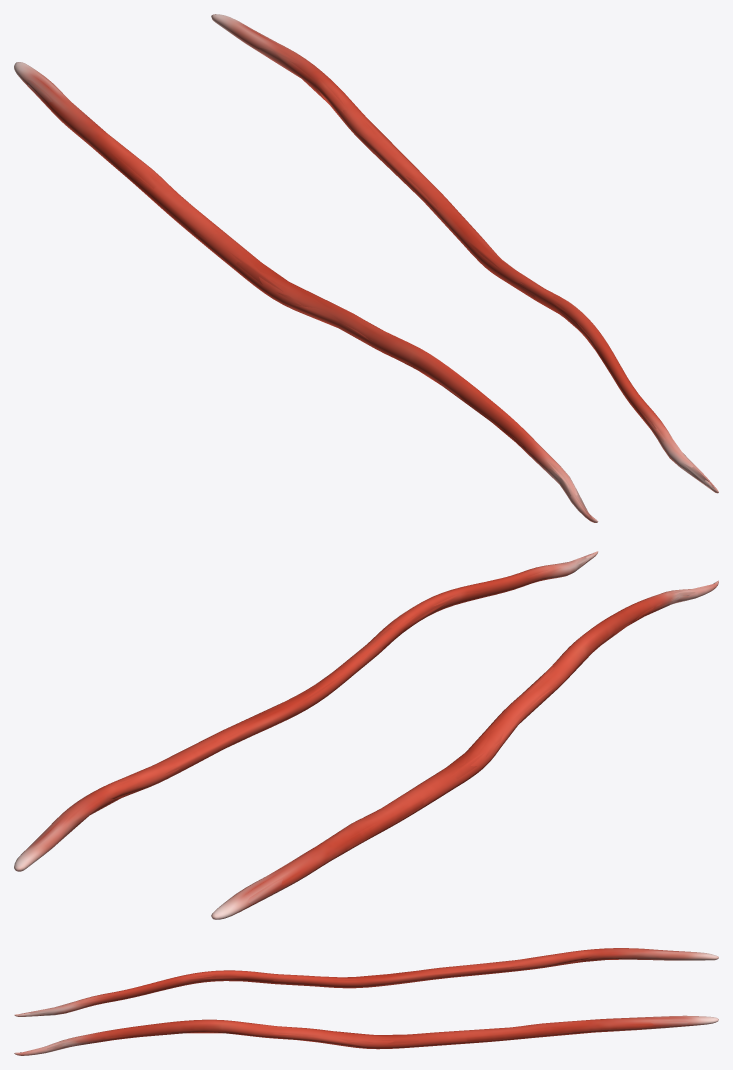
The model's file is Longissimus costarum.fbx.
3 views of the same model, one above another, from view 1: azimuth 30°, elevation 25°; view 2: azimuth 150°, elevation 25°; view 3: azimuth 270°, elevation 25° (orthographic). The views are drawn at different scales.
Parts seen in each view (by area): view 1: Longissimus costarum, Longissimus costarum low; view 2: Longissimus costarum, Longissimus costarum low; view 3: Longissimus costarum, Longissimus costarum low.
Part boxes in pixels (left/top/right/bottom): Longissimus costarum: left=14, top=14, right=718, bottom=522; Longissimus costarum low: left=16, top=31, right=716, bottom=519; Longissimus costarum: left=14, top=551, right=718, bottom=919; Longissimus costarum low: left=15, top=552, right=717, bottom=918; Longissimus costarum: left=14, top=948, right=718, bottom=1055; Longissimus costarum low: left=17, top=949, right=709, bottom=1053.
Bounding box in the file's own units: 25.71 × 8.21 × 99.71.
